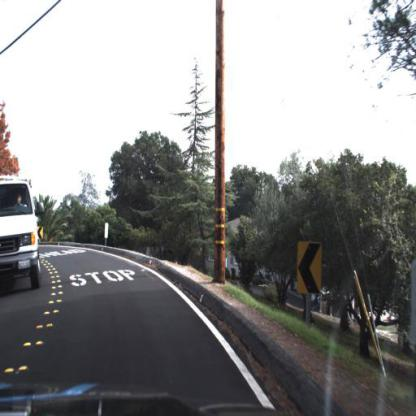car: (1, 176, 45, 291)
